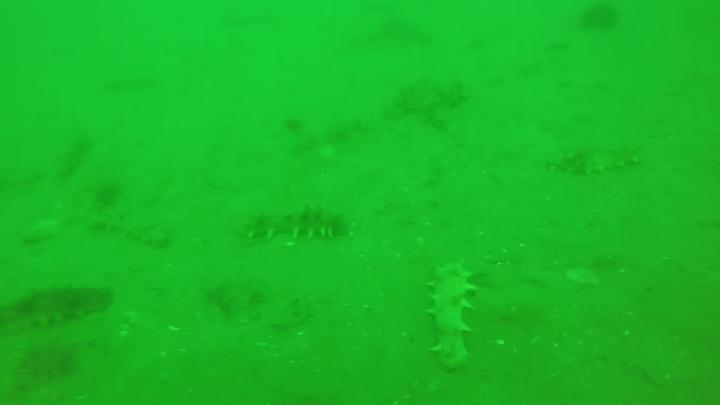holothurian: (421, 264, 476, 369), (1, 288, 114, 329), (238, 205, 348, 242), (551, 143, 649, 177), (86, 219, 176, 251), (57, 134, 97, 177)
